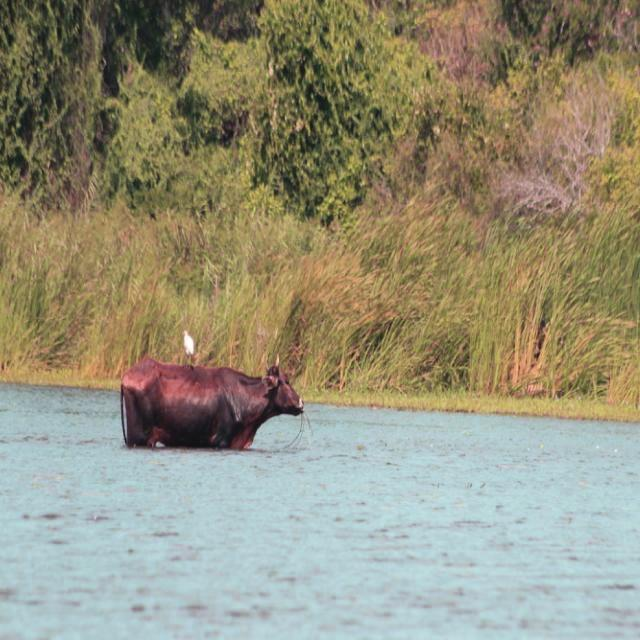cow: (121, 359, 304, 448)
